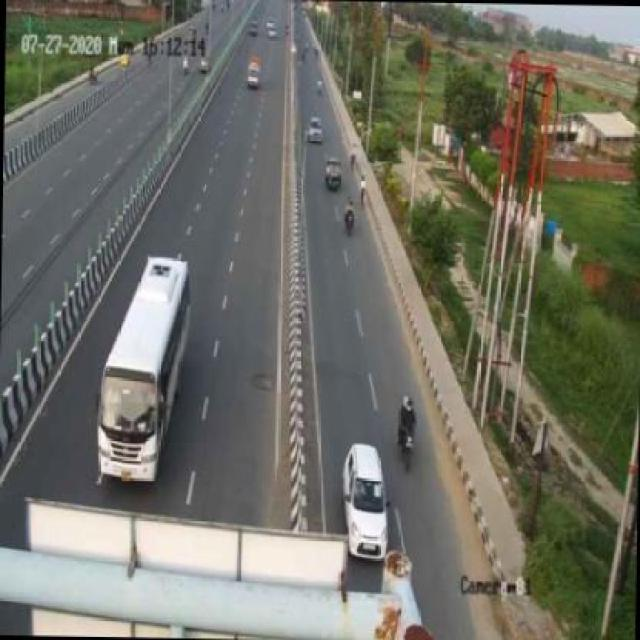car: (337, 443, 392, 557), (317, 151, 345, 191), (304, 114, 328, 146)
